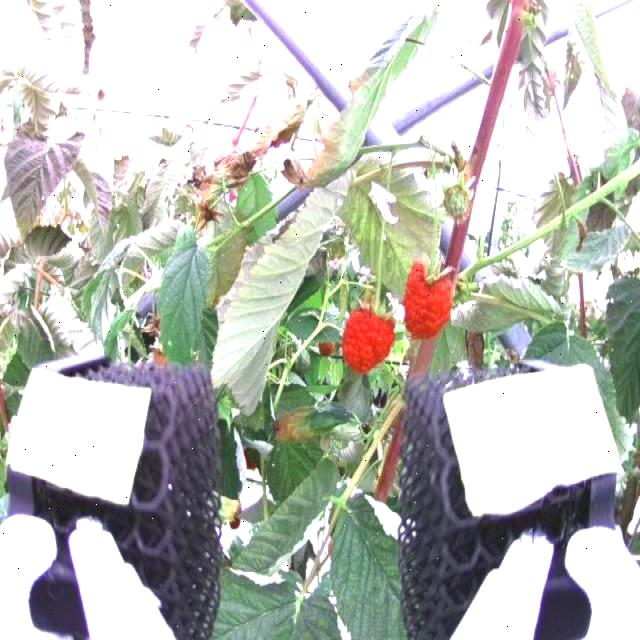Riped berries: (397, 253, 460, 338), (341, 300, 399, 375)
